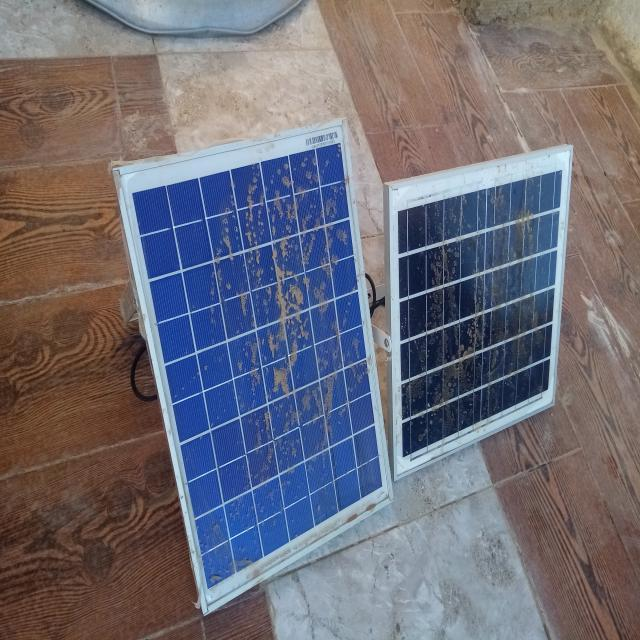faulty: (117, 123, 394, 614), (388, 147, 574, 481)
